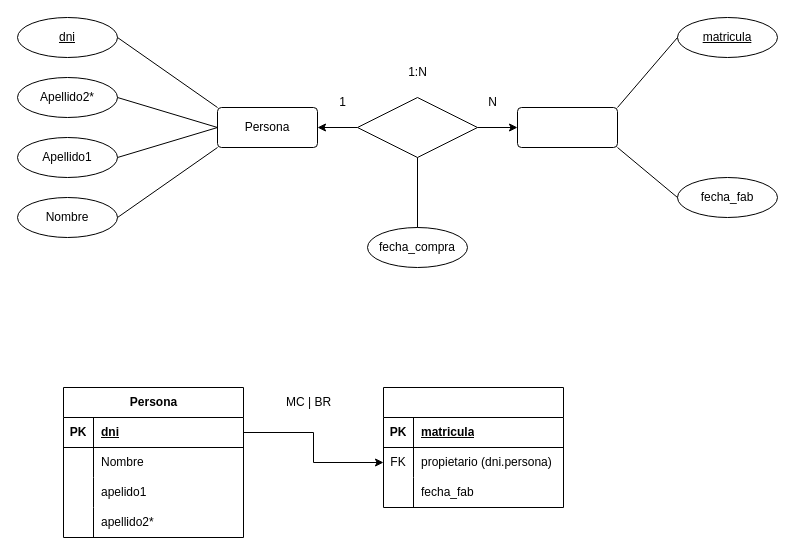
Some shapes in this 795 by 555 pixel diagram are drawn without their labels. The box of each missing label's shape, as (x1, y1, x2, y2) in pixels:
tener: (356, 96, 478, 158)
vehiculo: (516, 106, 618, 148)
vehículo: (382, 386, 564, 508)
